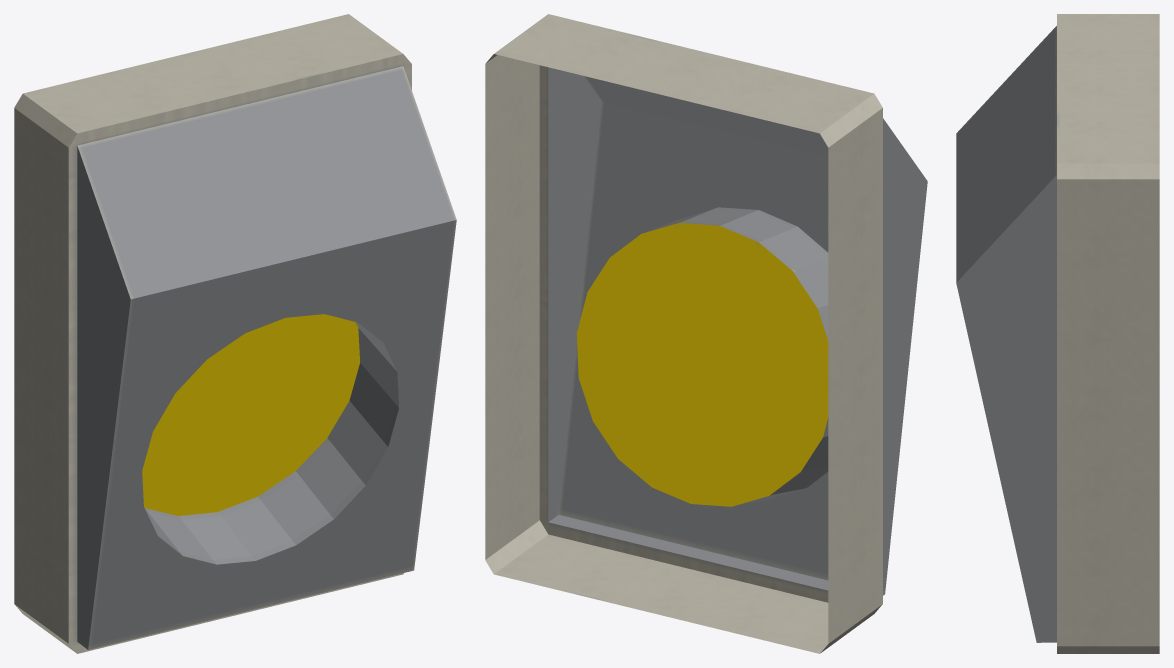
The model's file is WallpCube128.fbx.
The picture shows the model from 3 angles, left to right: view 1: azimuth 30°, elevation 25°; view 2: azimuth 150°, elevation 25°; view 3: azimuth 270°, elevation 25°; orthographic projection. The views are drawn at different scales.
Parts seen in each view (by area): view 1: pCube128; view 2: pCube128; view 3: pCube128.
Part boxes in pixels (x1,y1,x2,y2): pCube128: [14, 14, 456, 653]; pCube128: [485, 14, 927, 653]; pCube128: [956, 14, 1159, 653].
Size of the model in its own units: 24.35 by 35.29 by 13.27.
